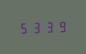five: (18, 20, 29, 34)
nine: (54, 19, 65, 33)
three: (30, 20, 41, 34), (42, 20, 53, 33)
